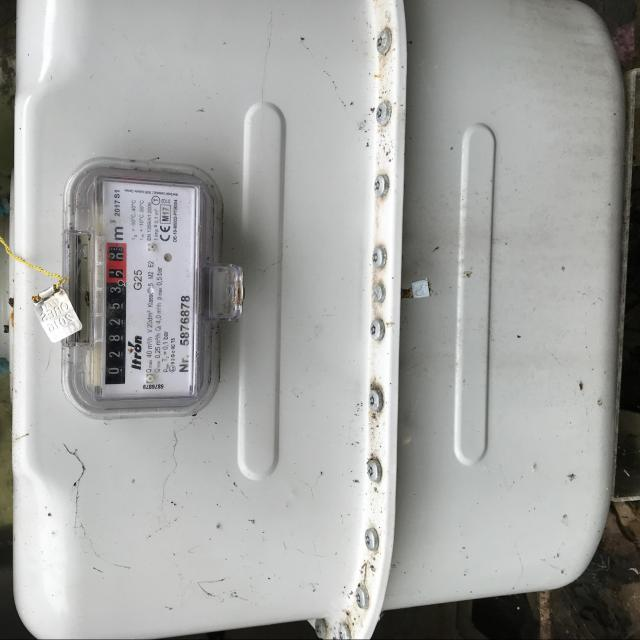gaz_meter: (68, 164, 213, 408)
indication: (105, 242, 126, 384)
